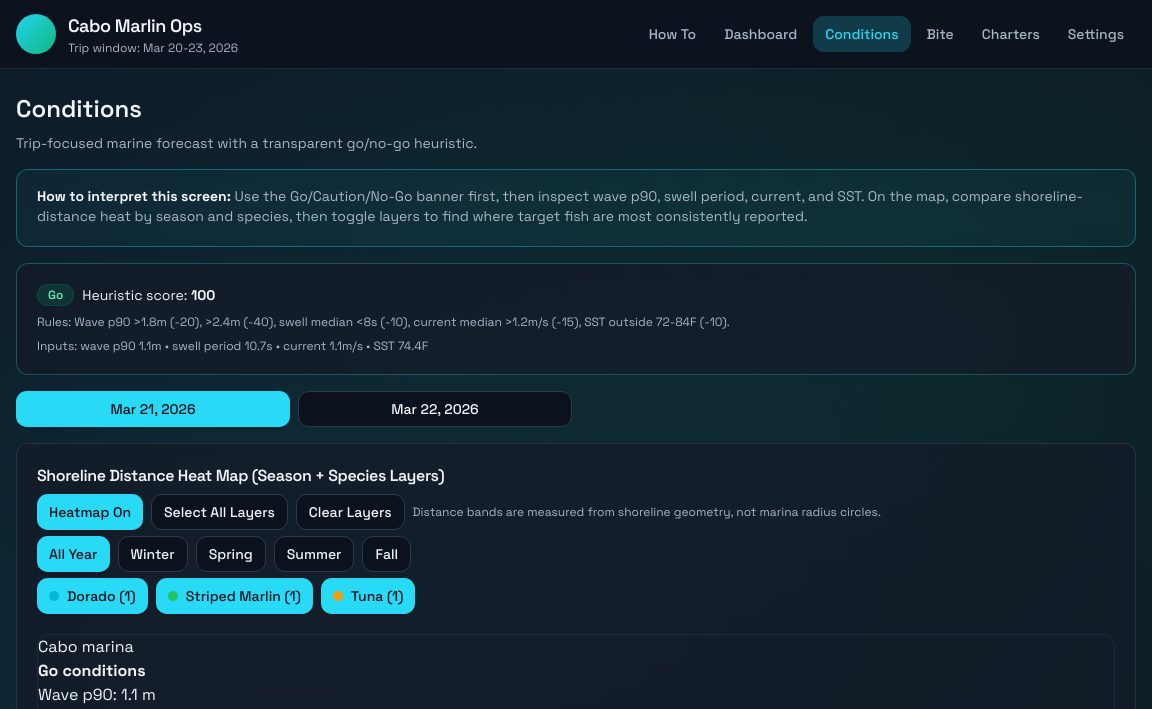
Test: conditions route interactions › keeps route buttons interactive on the conditions screen
Check: the heading "Conditions" is shown, box [16,93,142,124]
Check: the text "Inputs: wave p90 1.1m" is shown, box [37,338,428,354]
Click the button "Winter" at x=153, y=554, box [118,536,188,572]
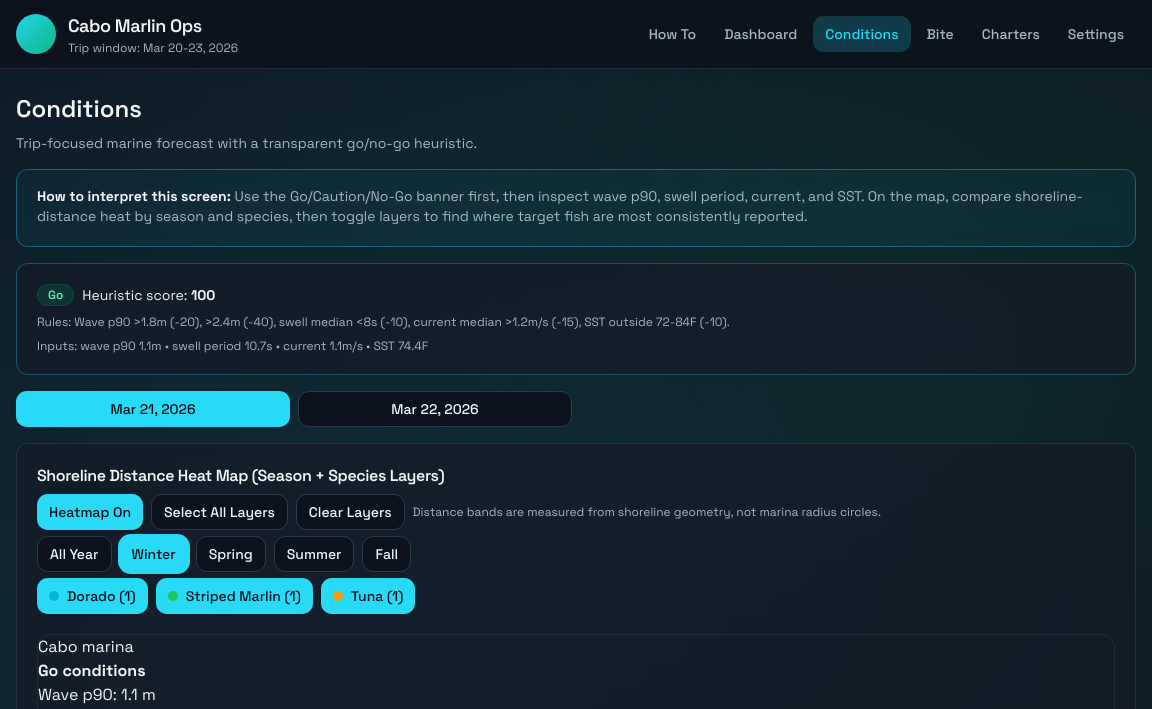
Click the button "Heatmap On" at x=90, y=512, box [37,494,143,530]
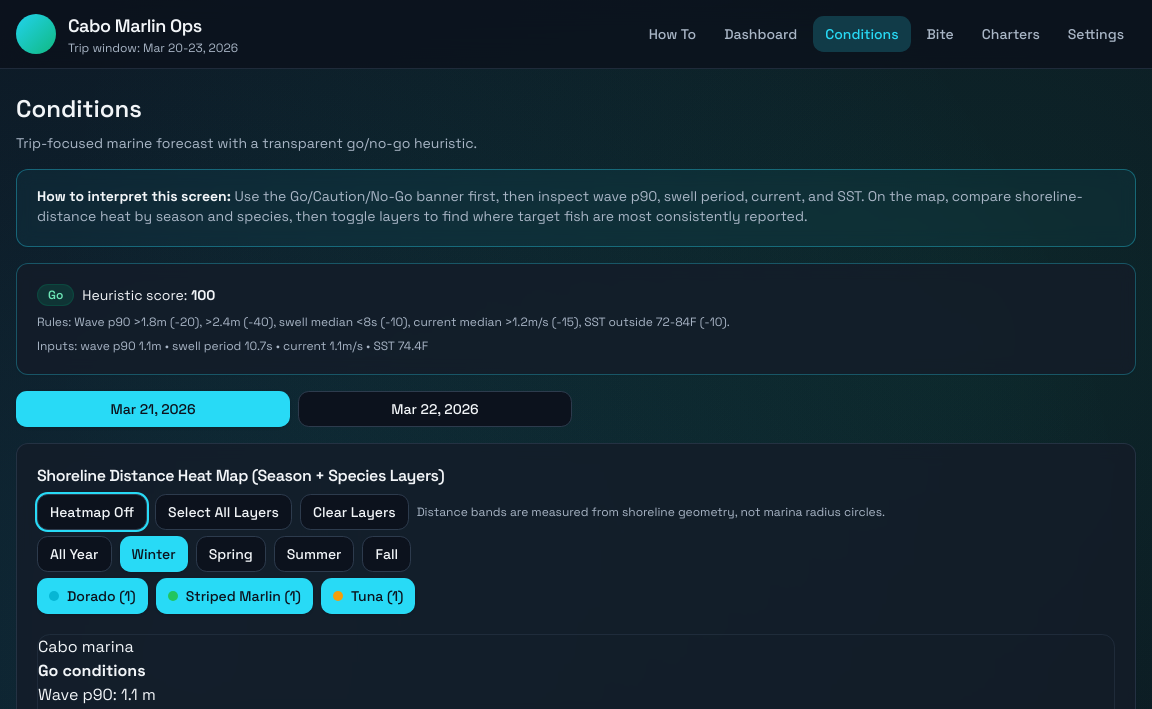
Check: the button "Heatmap Off" is shown, box [37,494,147,530]
